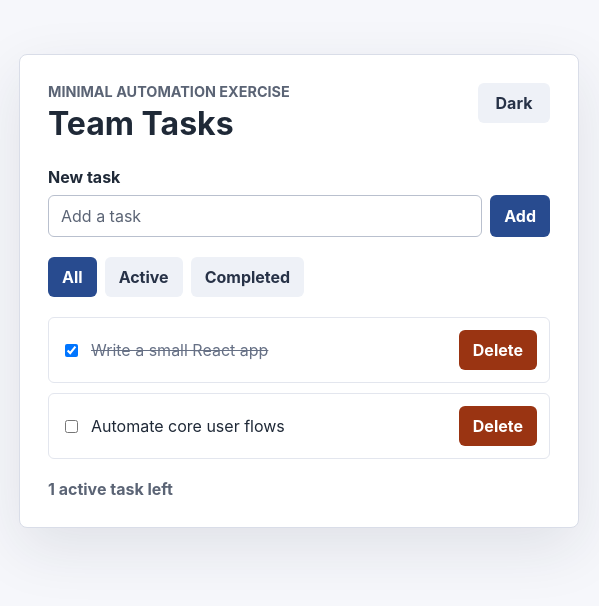
Test: Team Tasks app › adds a task and updates the active task count
Type "Review CI workflow" into the field labelled "New task". click: [265, 216]
box: [48,195,482,237]
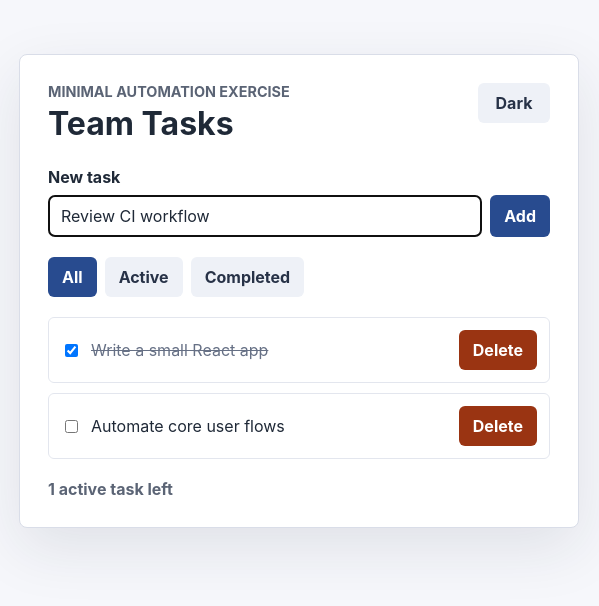
Click the button "Add". click: [520, 216]
box: [490,195,550,237]
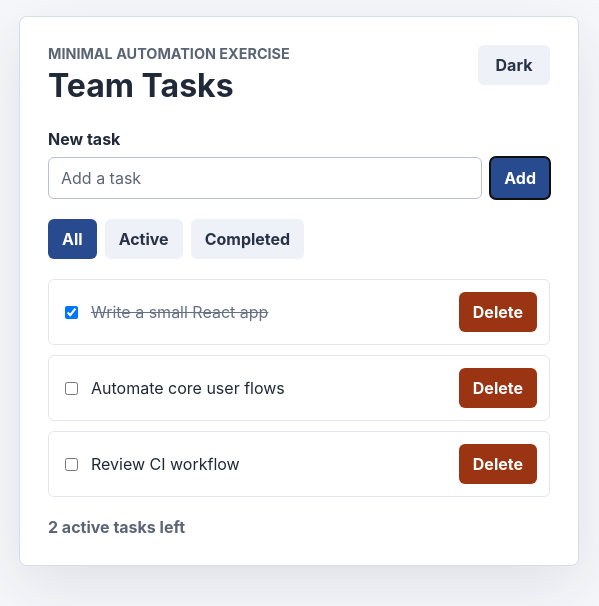
Expected: the text "Review CI workflow" is shown, [91,454,240,474]
Expected: the text "2 active tasks left" is shown, [48,517,185,537]
Expected: the field labelled "New task" is empty, [48,157,482,199]
